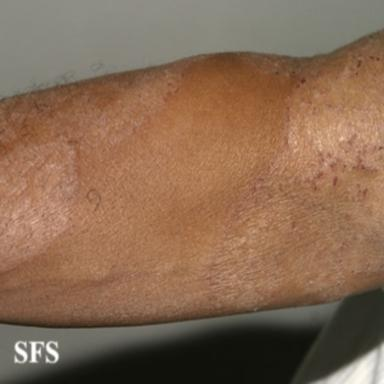Tinea-Corporis: (201, 29, 384, 311), (0, 52, 215, 274)
